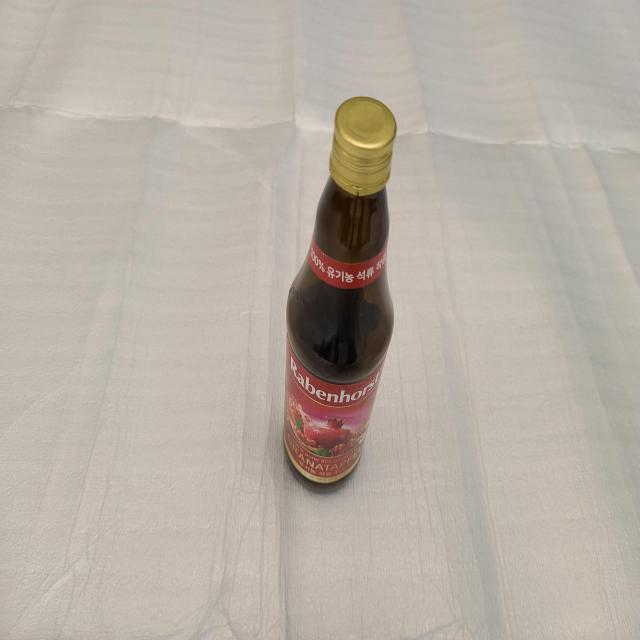glass: (284, 96, 396, 487)
